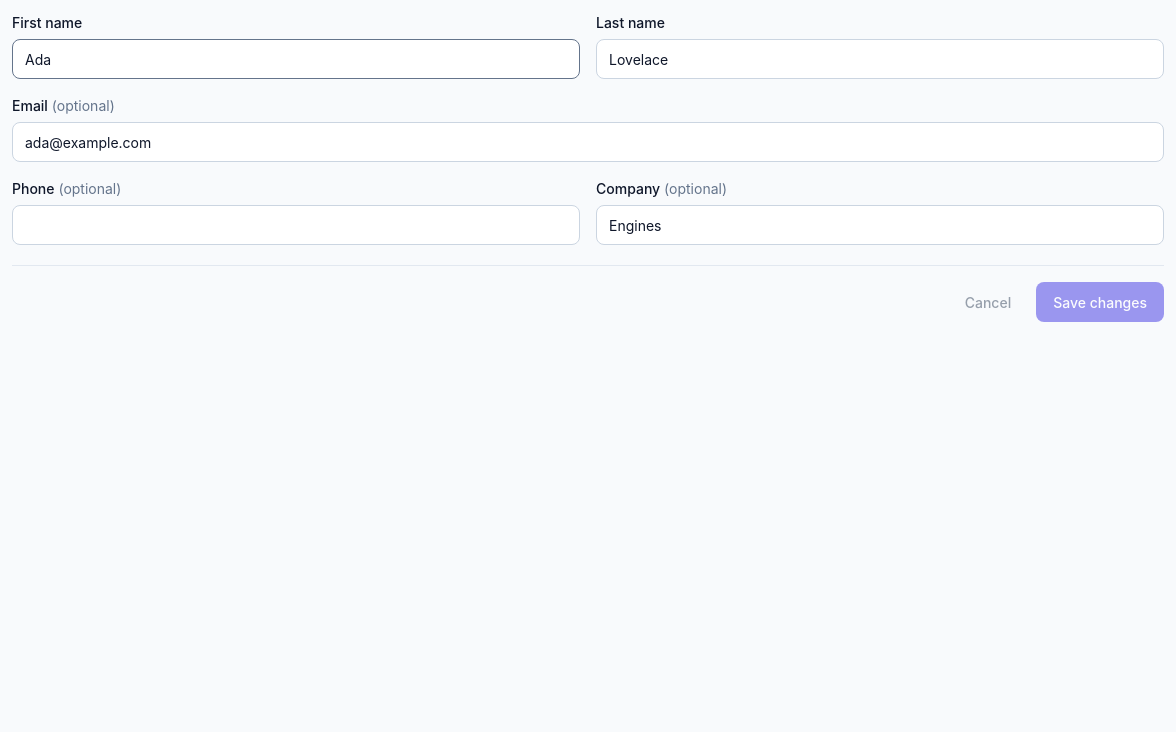
Test: ContactForm › when someone else saved first › shows both values side by side
The width and height of the screenshot is (1176, 732).
Step 1. Replace the text in the field labelled "Company (optional)" with "My Co" → {"x": 880, "y": 225}, box [596, 205, 1164, 245]
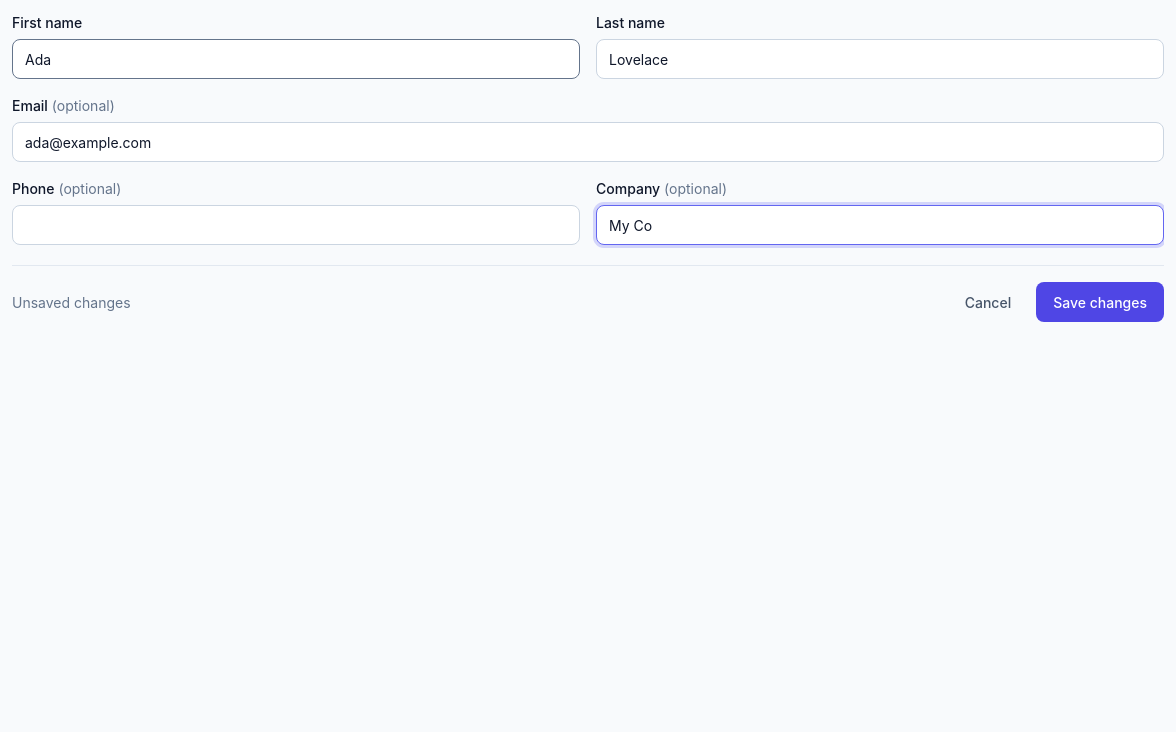
Step 2. Click the button "Save changes" → {"x": 1100, "y": 302}, box [1036, 282, 1164, 322]
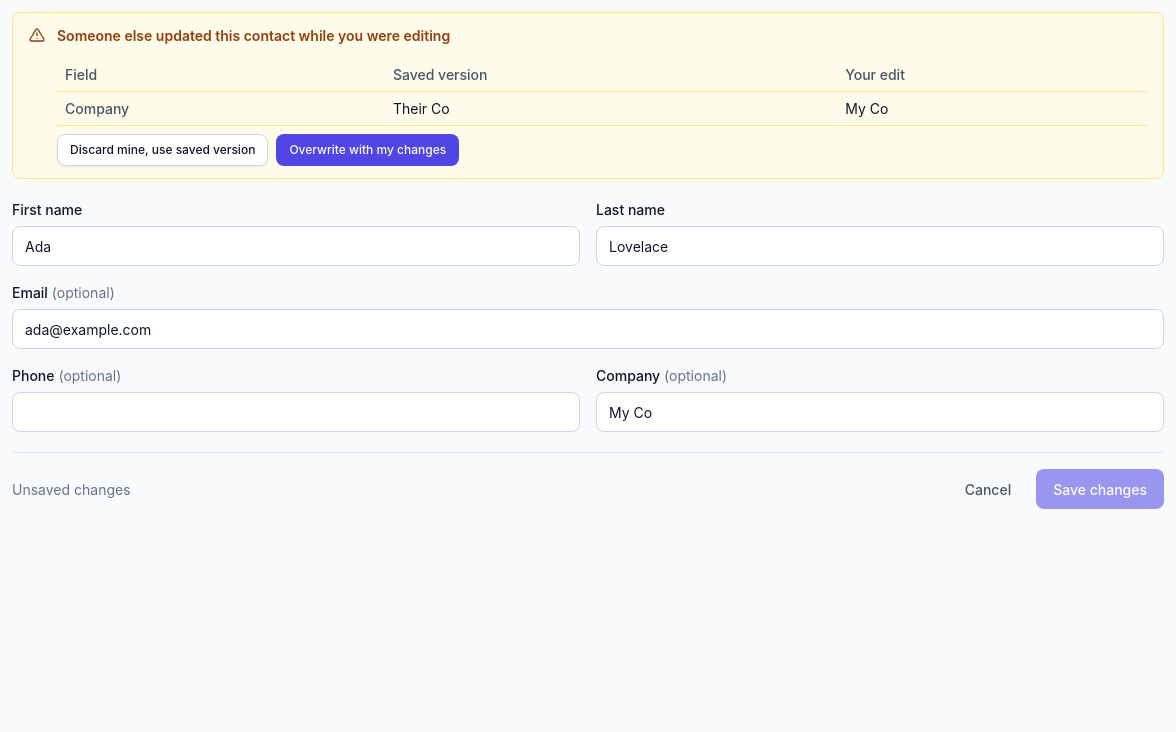
Result: the text "Someone else updated this contact while you were editing" is shown at [57, 27, 450, 44]
Result: the cell "Their Co" is shown at [385, 92, 837, 126]
Result: the cell "My Co" is shown at [837, 92, 1147, 126]
